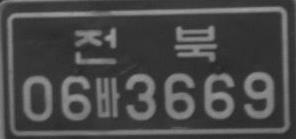0: (22, 74, 54, 122)
3: (124, 72, 156, 120)
6: (203, 70, 235, 120), (163, 71, 195, 120), (60, 74, 91, 121)
9: (243, 70, 276, 120)
바: (95, 76, 120, 117)
전북_D: (74, 24, 218, 64)
